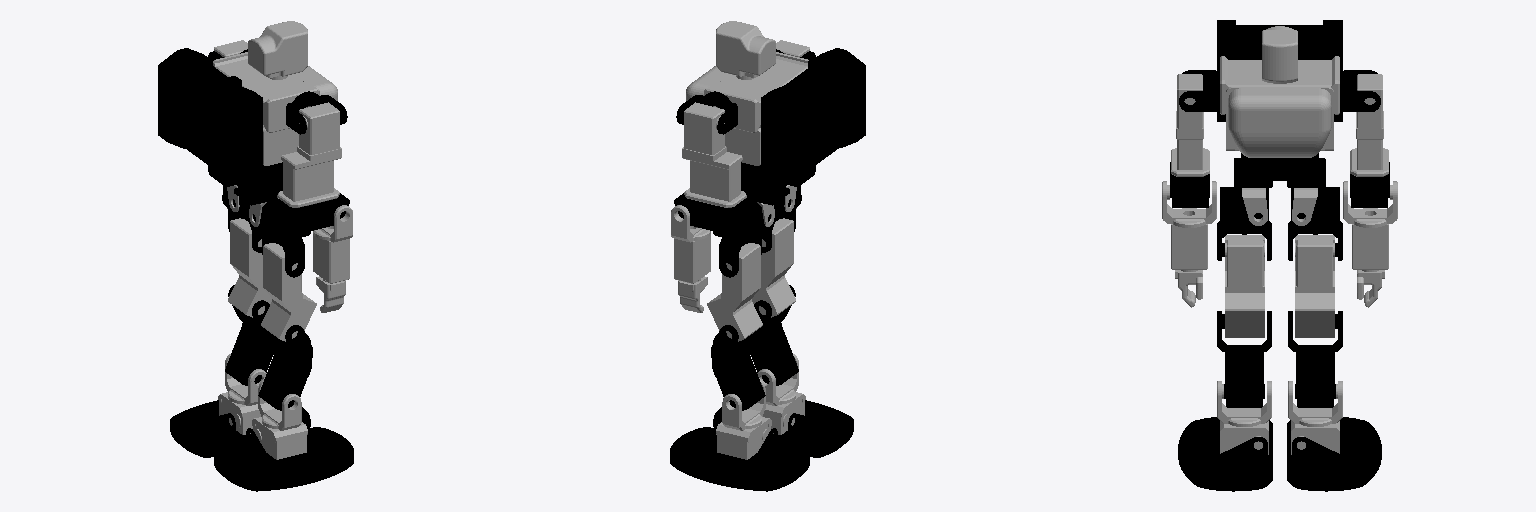
--- Render facts (derived) ---
3 views of the same robot in one strip: view 1: azimuth 30°, elevation 25°; view 2: azimuth 150°, elevation 25°; view 3: azimuth 270°, elevation 25° (orthographic).
Model khr3_001 with 26 links and 25 joints (22 continuous, 2 fixed, 1 floating), rooted at base_footprint, posed every joint at zero.
Visible links, largest first — view 1: c_chest_b, r_foot, r_upperarm, r_upperreg, r_lowerarm, l_foot, r_lowerreg, c_head_a, c_chest_c, r_ankle, l_upperreg, l_lowerreg (+7 smaller); view 2: c_chest_b, l_foot, l_upperarm, l_upperreg, l_lowerarm, r_foot, l_lowerreg, c_chest_c, c_head_a, l_ankle, r_upperreg, r_lowerreg (+7 smaller); view 3: c_chest_a, l_foot, r_foot, l_upperreg, r_upperreg, c_chest_b, l_lowerarm, r_lowerarm, l_lowerreg, r_lowerreg, c_chest_c, base_link (+13 smaller).
Boxes of the visible links, x1,y1,x2,y2 form: c_chest_b: (158,48,262,184); r_foot: (214,427,353,491); r_upperarm: (277,102,341,207); r_upperreg: (261,243,316,341); r_lowerarm: (313,205,352,312); l_foot: (170,400,310,457); r_lowerreg: (258,310,312,410); c_head_a: (248,21,307,79); c_chest_c: (213,52,319,132); r_ankle: (252,378,307,459); l_upperreg: (228,218,271,317); l_lowerreg: (225,285,275,385); c_chest_b: (761,48,865,184); l_foot: (670,427,809,491); l_upperarm: (682,102,746,207); l_upperreg: (707,243,762,341); l_lowerarm: (671,205,710,312); r_foot: (713,400,853,457); l_lowerreg: (711,310,765,410); c_chest_c: (704,52,808,132); c_head_a: (716,21,775,79); l_ankle: (716,378,771,459); r_upperreg: (752,218,795,317); r_lowerreg: (748,285,798,385); c_chest_a: (1226,87,1333,157); l_foot: (1287,417,1381,491); r_foot: (1178,417,1272,491); l_upperreg: (1295,235,1334,337); r_upperreg: (1225,235,1264,337); c_chest_b: (1217,20,1342,121); l_lowerarm: (1343,181,1397,307); r_lowerarm: (1162,181,1216,307); l_lowerreg: (1288,311,1342,407); r_lowerreg: (1217,311,1271,407); c_chest_c: (1220,56,1339,150); base_link: (1234,153,1325,187).
Bounding box of the posed robot: 0.1356 × 0.1943 × 0.3987 m (x, y, z).
25 mesh visuals loaded from 25 distinct referenced files (25 binary STL).

URDF robot description (khr3_001):
<?xml version="1.0" ?>
<!-- =================================================================================== -->
<!-- |    This document was autogenerated by xacro from khr3_001.xacro                 | -->
<!-- |    EDITING THIS FILE BY HAND IS NOT RECOMMENDED                                 | -->
<!-- =================================================================================== -->
<robot name="khr3_001">
  <material name="silver">
    <color rgba="0.700 0.700 0.700 1.000"/>
  </material>
  <material name="white">
    <color rgba="1.0 1.0 1.0 1.0"/>
  </material>
  <material name="black">
    <color rgba="0.0 0.0 0.0 1.0"/>
  </material>
  <transmission name="c_chest_yaw_tran" type="SimpleTransmission">
    <type>transmission_interface/SimpleTransmission</type>
    <joint name="c_chest_yaw">
      <hardwareInterface>hardware_interface/PositionJointInterface</hardwareInterface>
    </joint>
    <actuator name="c_chest_yaw_actr">
      <hardwareInterface>hardware_interface/PositionJointInterface</hardwareInterface>
      <mechanicalReduction>1</mechanicalReduction>
    </actuator>
  </transmission>
  <transmission name="c_head_yaw_tran" type="SimpleTransmission">
    <type>transmission_interface/SimpleTransmission</type>
    <joint name="c_head_yaw">
      <hardwareInterface>hardware_interface/PositionJointInterface</hardwareInterface>
    </joint>
    <actuator name="c_head_yaw_actr">
      <hardwareInterface>hardware_interface/PositionJointInterface</hardwareInterface>
      <mechanicalReduction>1</mechanicalReduction>
    </actuator>
  </transmission>
  <transmission name="l_shoulder_pitch_tran" type="SimpleTransmission">
    <type>transmission_interface/SimpleTransmission</type>
    <joint name="l_shoulder_pitch">
      <hardwareInterface>hardware_interface/PositionJointInterface</hardwareInterface>
    </joint>
    <actuator name="l_shoulder_pitch_actr">
      <hardwareInterface>hardware_interface/PositionJointInterface</hardwareInterface>
      <mechanicalReduction>1</mechanicalReduction>
    </actuator>
  </transmission>
  <transmission name="l_shoulder_roll_tran" type="SimpleTransmission">
    <type>transmission_interface/SimpleTransmission</type>
    <joint name="l_shoulder_roll">
      <hardwareInterface>hardware_interface/PositionJointInterface</hardwareInterface>
    </joint>
    <actuator name="l_shoulder_roll_actr">
      <hardwareInterface>hardware_interface/PositionJointInterface</hardwareInterface>
      <mechanicalReduction>1</mechanicalReduction>
    </actuator>
  </transmission>
  <transmission name="l_elbow_yaw_tran" type="SimpleTransmission">
    <type>transmission_interface/SimpleTransmission</type>
    <joint name="l_elbow_yaw">
      <hardwareInterface>hardware_interface/PositionJointInterface</hardwareInterface>
    </joint>
    <actuator name="l_elbow_yaw_actr">
      <hardwareInterface>hardware_interface/PositionJointInterface</hardwareInterface>
      <mechanicalReduction>1</mechanicalReduction>
    </actuator>
  </transmission>
  <transmission name="l_elbow_pitch_tran" type="SimpleTransmission">
    <type>transmission_interface/SimpleTransmission</type>
    <joint name="l_elbow_pitch">
      <hardwareInterface>hardware_interface/PositionJointInterface</hardwareInterface>
    </joint>
    <actuator name="l_elbow_pitch_actr">
      <hardwareInterface>hardware_interface/PositionJointInterface</hardwareInterface>
      <mechanicalReduction>1</mechanicalReduction>
    </actuator>
  </transmission>
  <transmission name="r_shoulder_pitch_tran" type="SimpleTransmission">
    <type>transmission_interface/SimpleTransmission</type>
    <joint name="r_shoulder_pitch">
      <hardwareInterface>hardware_interface/PositionJointInterface</hardwareInterface>
    </joint>
    <actuator name="r_shoulder_pitch_actr">
      <hardwareInterface>hardware_interface/PositionJointInterface</hardwareInterface>
      <mechanicalReduction>1</mechanicalReduction>
    </actuator>
  </transmission>
  <transmission name="r_shoulder_roll_tran" type="SimpleTransmission">
    <type>transmission_interface/SimpleTransmission</type>
    <joint name="r_shoulder_roll">
      <hardwareInterface>hardware_interface/PositionJointInterface</hardwareInterface>
    </joint>
    <actuator name="r_shoulder_roll_actr">
      <hardwareInterface>hardware_interface/PositionJointInterface</hardwareInterface>
      <mechanicalReduction>1</mechanicalReduction>
    </actuator>
  </transmission>
  <transmission name="r_elbow_yaw_tran" type="SimpleTransmission">
    <type>transmission_interface/SimpleTransmission</type>
    <joint name="r_elbow_yaw">
      <hardwareInterface>hardware_interface/PositionJointInterface</hardwareInterface>
    </joint>
    <actuator name="r_elbow_yaw_actr">
      <hardwareInterface>hardware_interface/PositionJointInterface</hardwareInterface>
      <mechanicalReduction>1</mechanicalReduction>
    </actuator>
  </transmission>
  <transmission name="r_elbow_pitch_tran" type="SimpleTransmission">
    <type>transmission_interface/SimpleTransmission</type>
    <joint name="r_elbow_pitch">
      <hardwareInterface>hardware_interface/PositionJointInterface</hardwareInterface>
    </joint>
    <actuator name="r_elbow_pitch_actr">
      <hardwareInterface>hardware_interface/PositionJointInterface</hardwareInterface>
      <mechanicalReduction>1</mechanicalReduction>
    </actuator>
  </transmission>
  <transmission name="l_hipjoint_yaw_tran" type="SimpleTransmission">
    <type>transmission_interface/SimpleTransmission</type>
    <joint name="l_hipjoint_yaw">
      <hardwareInterface>hardware_interface/PositionJointInterface</hardwareInterface>
    </joint>
    <actuator name="l_hipjoint_yaw_actr">
      <hardwareInterface>hardware_interface/PositionJointInterface</hardwareInterface>
      <mechanicalReduction>1</mechanicalReduction>
    </actuator>
  </transmission>
  <transmission name="l_hipjoint_roll_tran" type="SimpleTransmission">
    <type>transmission_interface/SimpleTransmission</type>
    <joint name="l_hipjoint_roll">
      <hardwareInterface>hardware_interface/PositionJointInterface</hardwareInterface>
    </joint>
    <actuator name="l_hipjoint_roll_actr">
      <hardwareInterface>hardware_interface/PositionJointInterface</hardwareInterface>
      <mechanicalReduction>1</mechanicalReduction>
    </actuator>
  </transmission>
  <transmission name="l_hipjoint_pitch_tran" type="SimpleTransmission">
    <type>transmission_interface/SimpleTransmission</type>
    <joint name="l_hipjoint_pitch">
      <hardwareInterface>hardware_interface/PositionJointInterface</hardwareInterface>
    </joint>
    <actuator name="l_hipjoint_pitch_actr">
      <hardwareInterface>hardware_interface/PositionJointInterface</hardwareInterface>
      <mechanicalReduction>1</mechanicalReduction>
    </actuator>
  </transmission>
  <transmission name="l_knee_pitch_tran" type="SimpleTransmission">
    <type>transmission_interface/SimpleTransmission</type>
    <joint name="l_knee_pitch">
      <hardwareInterface>hardware_interface/PositionJointInterface</hardwareInterface>
    </joint>
    <actuator name="l_knee_pitch_actr">
      <hardwareInterface>hardware_interface/PositionJointInterface</hardwareInterface>
      <mechanicalReduction>1</mechanicalReduction>
    </actuator>
  </transmission>
  <transmission name="l_ankle_pitch_tran" type="SimpleTransmission">
    <type>transmission_interface/SimpleTransmission</type>
    <joint name="l_ankle_pitch">
      <hardwareInterface>hardware_interface/PositionJointInterface</hardwareInterface>
    </joint>
    <actuator name="l_ankle_pitch_actr">
      <hardwareInterface>hardware_interface/PositionJointInterface</hardwareInterface>
      <mechanicalReduction>1</mechanicalReduction>
    </actuator>
  </transmission>
  <transmission name="l_ankle_roll_tran" type="SimpleTransmission">
    <type>transmission_interface/SimpleTransmission</type>
    <joint name="l_ankle_roll">
      <hardwareInterface>hardware_interface/PositionJointInterface</hardwareInterface>
    </joint>
    <actuator name="l_ankle_roll_actr">
      <hardwareInterface>hardware_interface/PositionJointInterface</hardwareInterface>
      <mechanicalReduction>1</mechanicalReduction>
    </actuator>
  </transmission>
  <transmission name="r_hipjoint_yaw_tran" type="SimpleTransmission">
    <type>transmission_interface/SimpleTransmission</type>
    <joint name="r_hipjoint_yaw">
      <hardwareInterface>hardware_interface/PositionJointInterface</hardwareInterface>
    </joint>
    <actuator name="r_hipjoint_yaw_actr">
      <hardwareInterface>hardware_interface/PositionJointInterface</hardwareInterface>
      <mechanicalReduction>1</mechanicalReduction>
    </actuator>
  </transmission>
  <transmission name="r_hipjoint_roll_tran" type="SimpleTransmission">
    <type>transmission_interface/SimpleTransmission</type>
    <joint name="r_hipjoint_roll">
      <hardwareInterface>hardware_interface/PositionJointInterface</hardwareInterface>
    </joint>
    <actuator name="r_hipjoint_roll_actr">
      <hardwareInterface>hardware_interface/PositionJointInterface</hardwareInterface>
      <mechanicalReduction>1</mechanicalReduction>
    </actuator>
  </transmission>
  <transmission name="r_hipjoint_pitch_tran" type="SimpleTransmission">
    <type>transmission_interface/SimpleTransmission</type>
    <joint name="r_hipjoint_pitch">
      <hardwareInterface>hardware_interface/PositionJointInterface</hardwareInterface>
    </joint>
    <actuator name="r_hipjoint_pitch_actr">
      <hardwareInterface>hardware_interface/PositionJointInterface</hardwareInterface>
      <mechanicalReduction>1</mechanicalReduction>
    </actuator>
  </transmission>
  <transmission name="r_knee_pitch_tran" type="SimpleTransmission">
    <type>transmission_interface/SimpleTransmission</type>
    <joint name="r_knee_pitch">
      <hardwareInterface>hardware_interface/PositionJointInterface</hardwareInterface>
    </joint>
    <actuator name="r_knee_pitch_actr">
      <hardwareInterface>hardware_interface/PositionJointInterface</hardwareInterface>
      <mechanicalReduction>1</mechanicalReduction>
    </actuator>
  </transmission>
  <transmission name="r_ankle_pitch_tran" type="SimpleTransmission">
    <type>transmission_interface/SimpleTransmission</type>
    <joint name="r_ankle_pitch">
      <hardwareInterface>hardware_interface/PositionJointInterface</hardwareInterface>
    </joint>
    <actuator name="r_ankle_pitch_actr">
      <hardwareInterface>hardware_interface/PositionJointInterface</hardwareInterface>
      <mechanicalReduction>1</mechanicalReduction>
    </actuator>
  </transmission>
  <transmission name="r_ankle_roll_tran" type="SimpleTransmission">
    <type>transmission_interface/SimpleTransmission</type>
    <joint name="r_ankle_roll">
      <hardwareInterface>hardware_interface/PositionJointInterface</hardwareInterface>
    </joint>
    <actuator name="r_ankle_roll_actr">
      <hardwareInterface>hardware_interface/PositionJointInterface</hardwareInterface>
      <mechanicalReduction>1</mechanicalReduction>
    </actuator>
  </transmission>
  <!-- <gazebo>
  <plugin name="control" filename="libgazebo_ros_control.so"/>
</gazebo> -->
  <gazebo>
    <!-- Do I have to write it down? -->
    <plugin filename="libgazebo_ros_control.so" name="gazebo_ros_control">
      <robotNamespace>/khr3_001</robotNamespace>
      <robotSimType>gazebo_ros_control/DefaultRobotHWSim</robotSimType>
    </plugin>
  </gazebo>
  <gazebo reference="base_link">
    <material>Gazebo/Silver</material>
    <mu1>0.2</mu1>
    <mu2>0.2</mu2>
    <selfCollide>true</selfCollide>
    <gravity>true</gravity>
  </gazebo>
  <gazebo reference="c_chest_c">
    <material>Gazebo/Silver</material>
    <mu1>0.2</mu1>
    <mu2>0.2</mu2>
    <selfCollide>true</selfCollide>
  </gazebo>
  <gazebo reference="c_chest_b">
    <material>Gazebo/Silver</material>
    <mu1>0.2</mu1>
    <mu2>0.2</mu2>
    <selfCollide>true</selfCollide>
  </gazebo>
  <gazebo reference="c_chest_a">
    <material>Gazebo/Silver</material>
    <mu1>0.2</mu1>
    <mu2>0.2</mu2>
    <selfCollide>true</selfCollide>
  </gazebo>
  <gazebo reference="c_head_a">
    <material>Gazebo/Silver</material>
    <mu1>0.2</mu1>
    <mu2>0.2</mu2>
    <selfCollide>true</selfCollide>
  </gazebo>
  <gazebo reference="l_shoulder">
    <material>Gazebo/Silver</material>
    <mu1>0.2</mu1>
    <mu2>0.2</mu2>
    <selfCollide>true</selfCollide>
  </gazebo>
  <gazebo reference="l_upperarm">
    <material>Gazebo/Silver</material>
    <mu1>0.2</mu1>
    <mu2>0.2</mu2>
    <selfCollide>true</selfCollide>
  </gazebo>
  <gazebo reference="l_elbow">
    <material>Gazebo/Silver</material>
    <mu1>0.2</mu1>
    <mu2>0.2</mu2>
    <selfCollide>true</selfCollide>
  </gazebo>
  <gazebo reference="l_lowerarm">
    <material>Gazebo/Silver</material>
    <mu1>0.2</mu1>
    <mu2>0.2</mu2>
    <selfCollide>true</selfCollide>
  </gazebo>
  <gazebo reference="r_shoulder">
    <material>Gazebo/Silver</material>
    <mu1>0.2</mu1>
    <mu2>0.2</mu2>
    <selfCollide>true</selfCollide>
  </gazebo>
  <gazebo reference="r_upperarm">
    <material>Gazebo/Silver</material>
    <mu1>0.2</mu1>
    <mu2>0.2</mu2>
    <selfCollide>true</selfCollide>
  </gazebo>
  <gazebo reference="r_elbow">
    <material>Gazebo/Silver</material>
    <mu1>0.2</mu1>
    <mu2>0.2</mu2>
    <selfCollide>true</selfCollide>
  </gazebo>
  <gazebo reference="r_lowerarm">
    <material>Gazebo/Silver</material>
    <mu1>0.2</mu1>
    <mu2>0.2</mu2>
    <selfCollide>true</selfCollide>
  </gazebo>
  <gazebo reference="l_hipjointupper">
    <material>Gazebo/Silver</material>
    <mu1>0.2</mu1>
    <mu2>0.2</mu2>
    <selfCollide>true</selfCollide>
  </gazebo>
  <gazebo reference="l_hipjointlower">
    <material>Gazebo/Silver</material>
    <mu1>0.2</mu1>
    <mu2>0.2</mu2>
    <selfCollide>true</selfCollide>
  </gazebo>
  <gazebo reference="l_upperreg">
    <material>Gazebo/Silver</material>
    <mu1>0.2</mu1>
    <mu2>0.2</mu2>
    <selfCollide>true</selfCollide>
  </gazebo>
  <gazebo reference="l_lowerreg">
    <material>Gazebo/Silver</material>
    <mu1>0.2</mu1>
    <mu2>0.2</mu2>
    <selfCollide>true</selfCollide>
  </gazebo>
  <gazebo reference="l_ankle">
    <material>Gazebo/Silver</material>
    <mu1>0.2</mu1>
    <mu2>0.2</mu2>
    <selfCollide>true</selfCollide>
  </gazebo>
  <gazebo reference="l_foot">
    <material>Gazebo/Silver</material>
    <mu1>1</mu1>
    <mu2>1</mu2>
    <selfCollide>true</selfCollide>
  </gazebo>
  <gazebo reference="r_hipjointupper">
    <material>Gazebo/Silver</material>
    <mu1>0.2</mu1>
    <mu2>0.2</mu2>
    <selfCollide>true</selfCollide>
  </gazebo>
  <gazebo reference="r_hipjointlower">
    <material>Gazebo/Silver</material>
    <mu1>0.2</mu1>
    <mu2>0.2</mu2>
    <selfCollide>true</selfCollide>
  </gazebo>
  <gazebo reference="r_upperreg">
    <material>Gazebo/Silver</material>
    <mu1>0.2</mu1>
    <mu2>0.2</mu2>
    <selfCollide>true</selfCollide>
  </gazebo>
  <gazebo reference="r_lowerreg">
    <material>Gazebo/Silver</material>
    <mu1>0.2</mu1>
    <mu2>0.2</mu2>
    <selfCollide>true</selfCollide>
  </gazebo>
  <gazebo reference="r_ankle">
    <material>Gazebo/Silver</material>
    <mu1>0.2</mu1>
    <mu2>0.2</mu2>
    <selfCollide>true</selfCollide>
  </gazebo>
  <gazebo reference="r_foot">
    <material>Gazebo/Silver</material>
    <mu1>1</mu1>
    <mu2>1</mu2>
    <selfCollide>true</selfCollide>
  </gazebo>
  <!-- Description of robot -->
  <link name="base_footprint"/>
  <link name="base_link">
    <inertial>
      <origin rpy="0 0 0" xyz="-0.0004860989233068058 0.009532810756286874 0.27413898086600197"/>
      <mass value="0.13408213174666955"/>
      <inertia ixx="6.3e-05" ixy="0.0" ixz="-0.0" iyy="3.6e-05" iyz="-0.0" izz="6.8e-05"/>
    </inertial>
    <visual>
      <origin rpy="0 0 0" xyz="0 0 0"/>
      <geometry>
        <mesh filename="package://choreonoid_ros_khr3/meshes/base_link.stl" scale="0.001 0.001 0.001"/>
      </geometry>
      <material name="black"/>
    </visual>
    <collision>
      <origin rpy="0 0 0" xyz="0 0 0"/>
      <geometry>
        <mesh filename="package://choreonoid_ros_khr3/meshes/base_link.stl" scale="0.001 0.001 0.001"/>
      </geometry>
    </collision>
  </link>
  <link name="c_chest_c">
    <inertial>
      <origin rpy="0 0 0" xyz="-9.07564737343998e-05 -4.299695898109246e-08 0.04371354326547944"/>
      <mass value="0.1751250442918052"/>
      <inertia ixx="0.000158" ixy="0.0" ixz="0.0" iyy="6.6e-05" iyz="-0.0" izz="0.000176"/>
    </inertial>
    <visual>
      <origin rpy="0 0 0" xyz="-0.010956 -0.009542 -0.29475"/>
      <geometry>
        <mesh filename="package://choreonoid_ros_khr3/meshes/c_chest_c_1.stl" scale="0.001 0.001 0.001"/>
      </geometry>
      <material name="silver"/>
    </visual>
    <collision>
      <origin rpy="0 0 0" xyz="-0.010956 -0.009542 -0.29475"/>
      <geometry>
        <mesh filename="package://choreonoid_ros_khr3/meshes/c_chest_c_1.stl" scale="0.001 0.001 0.001"/>
      </geometry>
    </collision>
  </link>
  <link name="c_chest_b">
    <inertial>
      <origin rpy="0 0 0" xyz="-0.027362562372520854 2.840518613928325e-06 0.004477857770456339"/>
      <mass value="0.08659748664099903"/>
      <inertia ixx="0.000118" ixy="0.0" ixz="0.0" iyy="5.2e-05" iyz="0.0" izz="9.8e-05"/>
    </inertial>
    <visual>
      <origin rpy="0 0 0" xyz="0.015044 -0.009542 -0.326"/>
      <geometry>
        <mesh filename="package://choreonoid_ros_khr3/meshes/c_chest_b_1.stl" scale="0.001 0.001 0.001"/>
      </geometry>
      <material name="black"/>
    </visual>
    <collision>
      <origin rpy="0 0 0" xyz="0.015044 -0.009542 -0.326"/>
      <geometry>
        <mesh filename="package://choreonoid_ros_khr3/meshes/c_chest_b_1.stl" scale="0.001 0.001 0.001"/>
      </geometry>
    </collision>
  </link>
  <link name="c_chest_a">
    <inertial>
      <origin rpy="0 0 0" xyz="0.004546800382866728 -4.1161282904669805e-08 -0.0024788373011201403"/>
      <mass value="0.033763915303500654"/>
      <inertia ixx="3.4e-05" ixy="-0.0" ixz="-3e-06" iyy="1.9e-05" iyz="0.0" izz="3.6e-05"/>
    </inertial>
    <visual>
      <origin rpy="0 0 0" xyz="-0.036956 -0.009542 -0.326"/>
      <geometry>
        <mesh filename="package://choreonoid_ros_khr3/meshes/c_chest_a_1.stl" scale="0.001 0.001 0.001"/>
      </geometry>
      <material name="silver"/>
    </visual>
    <collision>
      <origin rpy="0 0 0" xyz="-0.036956 -0.009542 -0.326"/>
      <geometry>
        <mesh filename="package://choreonoid_ros_khr3/meshes/c_chest_a_1.stl" scale="0.001 0.001 0.001"/>
      </geometry>
    </collision>
  </link>
  <link name="c_head_a">
    <inertial>
      <origin rpy="0 0 0" xyz="0.003079433021973575 -4.3073247395913894e-08 0.022888877386975093"/>
      <mass value="0.012778861662402228"/>
      <inertia ixx="2e-06" ixy="-0.0" ixz="-0.0" iyy="4e-06" iyz="0.0" izz="3e-06"/>
    </inertial>
    <visual>
      <origin rpy="0 0 0" xyz="-0.022456 -0.009542 -0.35425"/>
      <geometry>
        <mesh filename="package://choreonoid_ros_khr3/meshes/c_head_a_1.stl" scale="0.001 0.001 0.001"/>
      </geometry>
      <material name="silver"/>
    </visual>
    <collision>
      <origin rpy="0 0 0" xyz="-0.022456 -0.009542 -0.35425"/>
      <geometry>
        <mesh filename="package://choreonoid_ros_khr3/meshes/c_head_a_1.stl" scale="0.001 0.001 0.001"/>
      </geometry>
    </collision>
  </link>
  <link name="l_shoulder">
    <inertial>
      <origin rpy="0 0 0" xyz="0.00016940373751364937 0.008747288709026461 3.2529534621517087e-14"/>
      <mass value="0.012120367829212707"/>
      <inertia ixx="1e-06" ixy="-0.0" ixz="0.0" iyy="4e-06" iyz="0.0" izz="4e-06"/>
    </inertial>
    <visual>
      <origin rpy="0 0 0" xyz="-0.022456 -0.058442 -0.3425"/>
      <geometry>
        <mesh filename="package://choreonoid_ros_khr3/meshes/l_shoulder_v5_1.stl" scale="0.001 0.001 0.001"/>
      </geometry>
      <material name="black"/>
    </visual>
    <collision>
      <origin rpy="0 0 0" xyz="-0.022456 -0.058442 -0.3425"/>
      <geometry>
        <mesh filename="package://choreonoid_ros_khr3/meshes/l_shoulder_v5_1.stl" scale="0.001 0.001 0.001"/>
      </geometry>
    </collision>
  </link>
  <link name="l_upperarm">
    <inertial>
      <origin rpy="0 0 0" xyz="-0.02256531849252991 -4.2996961130414846e-08 -0.03564584515249991"/>
      <mass value="0.09077338253436838"/>
      <inertia ixx="5.4e-05" ixy="0.0" ixz="-1e-05" iyy="6.4e-05" iyz="0.0" izz="1.8e-05"/>
    </inertial>
    <visual>
      <origin rpy="0 0 0" xyz="-0.038206 -0.083442 -0.3425"/>
      <geometry>
        <mesh filename="package://choreonoid_ros_khr3/meshes/l_upperarm_v4_1.stl" scale="0.001 0.001 0.001"/>
      </geometry>
      <material name="silver"/>
    </visual>
    <collision>
      <origin rpy="0 0 0" xyz="-0.038206 -0.083442 -0.3425"/>
      <geometry>
        <mesh filename="package://choreonoid_ros_khr3/meshes/l_upperarm_v4_1.stl" scale="0.001 0.001 0.001"/>
      </geometry>
    </collision>
  </link>
  <link name="l_elbow">
    <inertial>
      <origin rpy="0 0 0" xyz="5.745484729775818e-05 -4.299695875731313e-08 -0.012574921301198305"/>
      <mass value="0.044771268874731644"/>
      <inertia ixx="6e-06" ixy="0.0" ixz="0.0" iyy="8e-06" iyz="-0.0" izz="1e-05"/>
    </inertial>
    <visual>
      <origin rpy="0 0 0" xyz="-0.022206 -0.083442 -0.27075"/>
      <geometry>
        <mesh filename="package://choreonoid_ros_khr3/meshes/l_elbow_v4_1.stl" scale="0.001 0.001 0.001"/>
      </geometry>
      <material name="black"/>
    </visual>
    <collision>
      <origin rpy="0 0 0" xyz="-0.022206 -0.083442 -0.27075"/>
      <geometry>
        <mesh filename="package://choreonoid_ros_khr3/meshes/l_elbow_v4_1.stl" scale="0.001 0.001 0.001"/>
      </geometry>
    </collision>
  </link>
  <link name="l_lowerarm">
    <inertial>
      <origin rpy="0 0 0" xyz="0.00017641899363149416 -0.0156924274010031 -0.04569649848488025"/>
      <mass value="0.02983803452815617"/>
      <inertia ixx="1.8e-05" ixy="0.0" ixz="0.0" iyy="1.6e-05" iyz="-0.0" izz="4e-06"/>
    </inertial>
    <visual>
      <origin rpy="0 0 0" xyz="-0.033706 -0.099692 -0.25625"/>
      <geometry>
        <mesh filename="package://choreonoid_ros_khr3/meshes/l_lowerarm_v7_1.stl" scale="0.001 0.001 0.001"/>
      </geometry>
      <material name="silver"/>
    </visual>
    <collision>
      <origin rpy="0 0 0" xyz="-0.033706 -0.099692 -0.25625"/>
      <geometry>
        <mesh filename="package://choreonoid_ros_khr3/meshes/l_lowerarm_v7_1.stl" scale="0.001 0.001 0.001"/>
      </geometry>
    </collision>
  </link>
  <link name="r_shoulder">
    <inertial>
      <origin rpy="0 0 0" xyz="0.00016940373733528857 -0.008747374702943796 5.306866057708248e-14"/>
      <mass value="0.01212036782921271"/>
      <inertia ixx="1e-06" ixy="0.0" ixz="-0.0" iyy="4e-06" iyz="0.0" izz="4e-06"/>
    </inertial>
    <visual>
      <origin rpy="0 0 0" xyz="-0.022456 0.039358 -0.3425"/>
      <geometry>
        <mesh filename="package://choreonoid_ros_khr3/meshes/r_shoulder_v4_1.stl" scale="0.001 0.001 0.001"/>
      </geometry>
      <material name="black"/>
    </visual>
    <collision>
      <origin rpy="0 0 0" xyz="-0.022456 0.039358 -0.3425"/>
      <geometry>
        <mesh filename="package://choreonoid_ros_khr3/meshes/r_shoulder_v4_1.stl" scale="0.001 0.001 0.001"/>
      </geometry>
    </collision>
  </link>
  <link name="r_upperarm">
    <inertial>
      <origin rpy="0 0 0" xyz="-0.022565318492529688 -4.2996961074903695e-08 -0.03564584515249991"/>
      <mass value="0.09077338253436838"/>
      <inertia ixx="5.4e-05" ixy="0.0" ixz="-1e-05" iyy="6.4e-05" iyz="0.0" izz="1.8e-05"/>
    </inertial>
    <visual>
      <origin rpy="0 0 0" xyz="-0.038206 0.064358 -0.3425"/>
      <geometry>
        <mesh filename="package://choreonoid_ros_khr3/meshes/r_upperarm_v3_1.stl" scale="0.001 0.001 0.001"/>
      </geometry>
      <material name="silver"/>
    </visual>
    <collision>
      <origin rpy="0 0 0" xyz="-0.038206 0.064358 -0.3425"/>
      <geometry>
        <mesh filename="package://choreonoid_ros_khr3/meshes/r_upperarm_v3_1.stl" scale="0.001 0.001 0.001"/>
      </geometry>
    </collision>
  </link>
  <link name="r_elbow">
    <inertial>
      <origin rpy="0 0 0" xyz="5.7454847330103836e-05 -4.2996958674046404e-08 -0.012574921301198305"/>
      <mass value="0.044771268874731526"/>
      <inertia ixx="6e-06" ixy="0.0" ixz="0.0" iyy="8e-06" iyz="-0.0" izz="1e-05"/>
    </inertial>
    <visual>
      <origin rpy="0 0 0" xyz="-0.022206 0.064358 -0.27075"/>
      <geometry>
        <mesh filename="package://choreonoid_ros_khr3/meshes/r_elbow_v4_1.stl" scale="0.001 0.001 0.001"/>
      </geometry>
      <material name="black"/>
    </visual>
    <collision>
      <origin rpy="0 0 0" xyz="-0.022206 0.064358 -0.27075"/>
      <geometry>
        <mesh filename="package://choreonoid_ros_khr3/meshes/r_elbow_v4_1.stl" scale="0.001 0.001 0.001"/>
      </geometry>
    </collision>
  </link>
  <link name="r_lowerarm">
    <inertial>
      <origin rpy="0 0 0" xyz="0.00017641899364317232 0.01569234140705124 -0.04569649848495705"/>
      <mass value="0.029838034528201704"/>
      <inertia ixx="1.8e-05" ixy="-0.0" ixz="0.0" iyy="1.6e-05" iyz="0.0" izz="4e-06"/>
    </inertial>
    <visual>
      <origin rpy="0 0 0" xyz="-0.033706 0.080608 -0.25625"/>
      <geometry>
        <mesh filename="package://choreonoid_ros_khr3/meshes/r_lowerarm_v5_1.stl" scale="0.001 0.001 0.001"/>
      </geometry>
      <material name="silver"/>
    </visual>
    <collision>
      <origin rpy="0 0 0" xyz="-0.033706 0.080608 -0.25625"/>
      <geometry>
        <mesh filename="package://choreonoid_ros_khr3/meshes/r_lowerarm_v5_1.stl" scale="0.001 0.001 0.001"/>
      </geometry>
    </collision>
  </link>
  <link name="l_hipjointupper">
    <inertial>
      <origin rpy="0 0 0" xyz="3.293764515496962e-05 -0.0011113374509284651 -0.007400199793976242"/>
      <mass value="0.005702042499396512"/>
      <inertia ixx="1e-06" ixy="0.0" ixz="0.0" iyy="2e-06" iyz="-0.0" izz="2e-06"/>
    </inertial>
    <visual>
      <origin rpy="0 0 0" xyz="-0.010956 -0.031242 -0.25575"/>
      <geometry>
        <mesh filename="package://choreonoid_ros_khr3/meshes/l_hipjointupper_v4_1.stl" scale="0.001 0.001 0.001"/>
      </geometry>
      <material name="silver"/>
    </visual>
    <collision>
      <origin rpy="0 0 0" xyz="-0.010956 -0.031242 -0.25575"/>
      <geometry>
        <mesh filename="package://choreonoid_ros_khr3/meshes/l_hipjointupper_v4_1.stl" scale="0.001 0.001 0.001"/>
      </geometry>
    </collision>
  </link>
  <link name="l_hipjointlower">
    <inertial>
      <origin rpy="0 0 0" xyz="-0.016250242301438553 0.011463181378816707 -0.0066539419866288585"/>
      <mass value="0.06689532645492419"/>
      <inertia ixx="2e-05" ixy="0.0" ixz="-0.0" iyy="1.4e-05" iyz="0.0" izz="1.5e-05"/>
    </inertial>
    <visual>
      <origin rpy="0 0 0" xyz="-0.027656 -0.027242 -0.233"/>
      <geometry>
        <mesh filename="package://choreonoid_ros_khr3/meshes/l_hipjointlower_v4_1.stl" scale="0.001 0.001 0.001"/>
      </geometry>
      <material name="black"/>
    </visual>
    <collision>
      <origin rpy="0 0 0" xyz="-0.027656 -0.027242 -0.233"/>
      <geometry>
        <mesh filename="package://choreonoid_ros_khr3/meshes/l_hipjointlower_v4_1.stl" scale="0.001 0.001 0.001"/>
      </geometry>
    </collision>
  </link>
  <link name="l_upperreg">
    <inertial>
      <origin rpy="0 0 0" xyz="0.002589780466551929 -0.016500042996958703 -0.03375567398425394"/>
      <mass value="0.09097466003274825"/>
      <inertia ixx="5.9e-05" ixy="0.0" ixz="4e-06" iyy="5.6e-05" iyz="0.0" izz="1.3e-05"/>
    </inertial>
    <visual>
      <origin rpy="0 0 0" xyz="-0.011406 -0.054742 -0.1935"/>
      <geometry>
        <mesh filename="package://choreonoid_ros_khr3/meshes/l_upperreg_v3_1.stl" scale="0.001 0.001 0.001"/>
      </geometry>
      <material name="silver"/>
    </visual>
    <collision>
      <origin rpy="0 0 0" xyz="-0.011406 -0.054742 -0.1935"/>
      <geometry>
        <mesh filename="package://choreonoid_ros_khr3/meshes/l_upperreg_v3_1.stl" scale="0.001 0.001 0.001"/>
      </geometry>
    </collision>
  </link>
  <link name="l_lowerreg">
    <inertial>
      <origin rpy="0 0 0" xyz="0.0044805681524230055 -0.015970110512676966 -0.04182100713444817"/>
      <mass value="0.06094435150357522"/>
      <inertia ixx="2.9e-05" ixy="0.0" ixz="-5e-06" iyy="2.6e-05" iyz="-0.0" izz="1.1e-05"/>
    </inertial>
    <visual>
      <origin rpy="0 0 0" xyz="-0.011406 -0.054742 -0.1285"/>
      <geometry>
        <mesh filename="package://choreonoid_ros_khr3/meshes/l_lowerreg_v5_1.stl" scale="0.001 0.001 0.001"/>
      </geometry>
      <material name="black"/>
    </visual>
    <collision>
      <origin rpy="0 0 0" xyz="-0.011406 -0.054742 -0.1285"/>
      <geometry>
        <mesh filename="package://choreonoid_ros_khr3/meshes/l_lowerreg_v5_1.stl" scale="0.001 0.001 0.001"/>
      </geometry>
    </collision>
  </link>
  <link name="l_ankle">
    <inertial>
      <origin rpy="0 0 0" xyz="0.0001886240331466279 -0.01666391069306302 -0.03292964719213733"/>
      <mass value="0.06757551562559608"/>
      <inertia ixx="2e-05" ixy="0.0" ixz="0.0" iyy="1.4e-05" iyz="-0.0" izz="1.6e-05"/>
    </inertial>
    <visual>
      <origin rpy="0 0 0" xyz="-0.008043 -0.055242 -0.063587"/>
      <geometry>
        <mesh filename="package://choreonoid_ros_khr3/meshes/l_ankle_v5_1.stl" scale="0.001 0.001 0.001"/>
      </geometry>
      <material name="silver"/>
    </visual>
    <collision>
      <origin rpy="0 0 0" xyz="-0.008043 -0.055242 -0.063587"/>
      <geometry>
        <mesh filename="package://choreonoid_ros_khr3/meshes/l_ankle_v5_1.stl" scale="0.001 0.001 0.001"/>
      </geometry>
    </collision>
  </link>
  <link name="l_foot">
    <inertial>
      <origin rpy="0 0 0" xyz="-0.020700151207673705 0.023895172544662873 -0.021244534057561063"/>
      <mass value="0.03847104970565043"/>
      <inertia ixx="2.3e-05" ixy="-0.0" ixz="0.0" iyy="4.8e-05" iyz="0.0" izz="6.9e-05"/>
    </inertial>
    <visual>
      <origin rpy="0 0 0" xyz="-0.027793 -0.027242 -0.024087"/>
      <geometry>
        <mesh filename="package://choreonoid_ros_khr3/meshes/l_foot_v3_1.stl" scale="0.001 0.001 0.001"/>
      </geometry>
      <material name="black"/>
    </visual>
    <collision>
      <origin rpy="0 0 0" xyz="-0.027793 -0.027242 -0.024087"/>
      <geometry>
        <mesh filename="package://choreonoid_ros_khr3/meshes/l_foot_v3_1.stl" scale="0.001 0.001 0.001"/>
      </geometry>
    </collision>
  </link>
  <link name="r_hipjointupper">
    <inertial>
      <origin rpy="0 0 0" xyz="3.2937645155054623e-05 0.0011112514569246185 -0.007400199793976325"/>
      <mass value="0.005702042499396526"/>
      <inertia ixx="1e-06" ixy="-0.0" ixz="0.0" iyy="2e-06" iyz="0.0" izz="2e-06"/>
    </inertial>
    <visual>
      <origin rpy="0 0 0" xyz="-0.010956 0.012158 -0.25575"/>
      <geometry>
        <mesh filename="package://choreonoid_ros_khr3/meshes/r_hipjointupper_v4_1.stl" scale="0.001 0.001 0.001"/>
      </geometry>
      <material name="silver"/>
    </visual>
    <collision>
      <origin rpy="0 0 0" xyz="-0.010956 0.012158 -0.25575"/>
      <geometry>
        <mesh filename="package://choreonoid_ros_khr3/meshes/r_hipjointupper_v4_1.stl" scale="0.001 0.001 0.001"/>
      </geometry>
    </collision>
  </link>
  <link name="r_hipjointlower">
    <inertial>
      <origin rpy="0 0 0" xyz="-0.016250242301436166 -0.011463267372574608 -0.006653941986625556"/>
      <mass value="0.0668953264549242"/>
      <inertia ixx="2e-05" ixy="0.0" ixz="0.0" iyy="1.4e-05" iyz="-0.0" izz="1.5e-05"/>
    </inertial>
    <visual>
      <origin rpy="0 0 0" xyz="-0.027656 0.008158 -0.233"/>
      <geometry>
        <mesh filename="package://choreonoid_ros_khr3/meshes/r_hipjointlower_v4_1.stl" scale="0.001 0.001 0.001"/>
      </geometry>
      <material name="black"/>
    </visual>
    <collision>
      <origin rpy="0 0 0" xyz="-0.027656 0.008158 -0.233"/>
      <geometry>
        <mesh filename="package://choreonoid_ros_khr3/meshes/r_hipjointlower_v4_1.stl" scale="0.001 0.001 0.001"/>
      </geometry>
    </collision>
  </link>
  <link name="r_upperreg">
    <inertial>
      <origin rpy="0 0 0" xyz="0.0025897804665520278 0.016499957003041386 -0.03375567398425397"/>
      <mass value="0.09097466003274823"/>
      <inertia ixx="5.9e-05" ixy="-0.0" ixz="4e-06" iyy="5.6e-05" iyz="0.0" izz="1.3e-05"/>
    </inertial>
    <visual>
      <origin rpy="0 0 0" xyz="-0.011406 0.035658 -0.1935"/>
      <geometry>
        <mesh filename="package://choreonoid_ros_khr3/meshes/r_upperreg_v3_1.stl" scale="0.001 0.001 0.001"/>
      </geometry>
      <material name="silver"/>
    </visual>
    <collision>
      <origin rpy="0 0 0" xyz="-0.011406 0.035658 -0.1935"/>
      <geometry>
        <mesh filename="package://choreonoid_ros_khr3/meshes/r_upperreg_v3_1.stl" scale="0.001 0.001 0.001"/>
      </geometry>
    </collision>
  </link>
  <link name="r_lowerreg">
    <inertial>
      <origin rpy="0 0 0" xyz="0.004480568152423165 0.01597002451875967 -0.04182100713444818"/>
      <mass value="0.06094435150357523"/>
      <inertia ixx="2.9e-05" ixy="-0.0" ixz="-5e-06" iyy="2.6e-05" iyz="0.0" izz="1.1e-05"/>
    </inertial>
    <visual>
      <origin rpy="0 0 0" xyz="-0.011406 0.035658 -0.1285"/>
      <geometry>
        <mesh filename="package://choreonoid_ros_khr3/meshes/r_lowerreg_v5_1.stl" scale="0.001 0.001 0.001"/>
      </geometry>
      <material name="black"/>
    </visual>
    <collision>
      <origin rpy="0 0 0" xyz="-0.011406 0.035658 -0.1285"/>
      <geometry>
        <mesh filename="package://choreonoid_ros_khr3/meshes/r_lowerreg_v5_1.stl" scale="0.001 0.001 0.001"/>
      </geometry>
    </collision>
  </link>
  <link name="r_ankle">
    <inertial>
      <origin rpy="0 0 0" xyz="0.00018862403314765484 0.01666382469921859 -0.03292964719213813"/>
      <mass value="0.06757551562559609"/>
      <inertia ixx="2e-05" ixy="-0.0" ixz="0.0" iyy="1.4e-05" iyz="0.0" izz="1.6e-05"/>
    </inertial>
    <visual>
      <origin rpy="0 0 0" xyz="-0.008043 0.036158 -0.063587"/>
      <geometry>
        <mesh filename="package://choreonoid_ros_khr3/meshes/r_ankle_v5_1.stl" scale="0.001 0.001 0.001"/>
      </geometry>
      <material name="silver"/>
    </visual>
    <collision>
      <origin rpy="0 0 0" xyz="-0.008043 0.036158 -0.063587"/>
      <geometry>
        <mesh filename="package://choreonoid_ros_khr3/meshes/r_ankle_v5_1.stl" scale="0.001 0.001 0.001"/>
      </geometry>
    </collision>
  </link>
  <link name="r_foot">
    <inertial>
      <origin rpy="0 0 0" xyz="-0.020700151207566492 -0.023895258538579878 -0.02124453405755709"/>
      <mass value="0.03847104970565037"/>
      <inertia ixx="2.3e-05" ixy="-0.0" ixz="-0.0" iyy="4.8e-05" iyz="-0.0" izz="6.9e-05"/>
    </inertial>
    <visual>
      <origin rpy="0 0 0" xyz="-0.027793 0.008158 -0.024087"/>
      <geometry>
        <mesh filename="package://choreonoid_ros_khr3/meshes/r_foot_v3_1.stl" scale="0.001 0.001 0.001"/>
      </geometry>
      <material name="black"/>
    </visual>
    <collision>
      <origin rpy="0 0 0" xyz="-0.027793 0.008158 -0.024087"/>
      <geometry>
        <mesh filename="package://choreonoid_ros_khr3/meshes/r_foot_v3_1.stl" scale="0.001 0.001 0.001"/>
      </geometry>
    </collision>
  </link>
  <!-- continuous <-> revolute -->
  <joint name="floating_joint" type="floating">
    <parent link="base_footprint"/>
    <child link="base_link"/>
    <origin rpy="0 0 0" xyz="0 0 0"/>
  </joint>
  <!-- <joint name="floating_joint" type="fixed">
        <parent link="base_footprint"/>
        <child link="base_link"/>
        <origin rpy="0 0 0" xyz="0 0 0"/>
</joint> -->
  <joint name="c_chest_yaw" type="continuous">
    <origin rpy="0 0 0" xyz="0.010956 0.009542 0.29475"/>
    <parent link="base_link"/>
    <child link="c_chest_c"/>
    <axis xyz="0.0 -0.0 1.0"/>
    <limit effort="1000" lower="-1.5707963267948966" upper="1.5707963267948966" velocity="100.0"/>
  </joint>
  <joint name="intrgration_01" type="fixed">
    <origin rpy="0 0 0" xyz="-0.026 0.0 0.03125"/>
    <parent link="c_chest_c"/>
    <child link="c_chest_b"/>
  </joint>
  <joint name="intrgration_02" type="fixed">
    <origin rpy="0 0 0" xyz="0.026 0.0 0.03125"/>
    <parent link="c_chest_c"/>
    <child link="c_chest_a"/>
  </joint>
  <joint name="l_shoulder_pitch" type="continuous">
    <origin rpy="0 0 0" xyz="0.0115 0.0489 0.04775"/>
    <parent link="c_chest_c"/>
    <child link="l_shoulder"/>
    <axis xyz="-0.0 1.0 0.0"/>
    <limit effort="1000" lower="-1.5707963267948966" upper="1.5707963267948966" velocity="100.0"/>
  </joint>
  <joint name="l_shoulder_roll" type="continuous">
    <origin rpy="0 0 0" xyz="0.01575 0.025 0.0"/>
    <parent link="l_shoulder"/>
    <child link="l_upperarm"/>
    <axis xyz="1.0 -0.0 0.0"/>
    <limit effort="1000" lower="-1.5707963267948966" upper="1.5707963267948966" velocity="100.0"/>
  </joint>
  <joint name="l_elbow_yaw" type="continuous">
    <origin rpy="0 0 0" xyz="-0.016 0.0 -0.07175"/>
    <parent link="l_upperarm"/>
    <child link="l_elbow"/>
    <axis xyz="-0.0 -0.0 1.0"/>
    <limit effort="1000" lower="-1.5707963267948966" upper="1.5707963267948966" velocity="100.0"/>
  </joint>
  <joint name="l_elbow_pitch" type="continuous">
    <origin rpy="0 0 0" xyz="0.0115 0.01625 -0.0145"/>
    <parent link="l_elbow"/>
    <child link="l_lowerarm"/>
    <axis xyz="-0.0 1.0 0.0"/>
    <limit effort="1000" lower="-1.5707963267948966" upper="1.5707963267948966" velocity="100.0"/>
  </joint>
  <joint name="l_hipjoint_yaw" type="continuous">
    <origin rpy="0 0 0" xyz="0.010956 0.031242 0.25575"/>
    <parent link="base_link"/>
    <child link="l_hipjointupper"/>
    <axis xyz="-0.0 0.0 -1.0"/>
    <limit effort="1000" lower="-1.5707963267948966" upper="1.5707963267948966" velocity="100.0"/>
  </joint>
  <joint name="l_hipjoint_roll" type="continuous">
    <origin rpy="0 0 0" xyz="0.0167 -0.004 -0.02275"/>
    <parent link="l_hipjointupper"/>
    <child link="l_hipjointlower"/>
    <axis xyz="1.0 0.0 -0.0"/>
    <limit effort="1000" lower="-1.5707963267948966" upper="1.5707963267948966" velocity="100.0"/>
  </joint>
  <joint name="l_hipjoint_pitch" type="continuous">
    <origin rpy="0 0 0" xyz="-0.01625 0.0275 -0.0395"/>
    <parent link="l_hipjointlower"/>
    <child link="l_upperreg"/>
    <axis xyz="-0.0 1.0 0.0"/>
    <limit effort="1000" lower="-1.5707963267948966" upper="1.5707963267948966" velocity="100.0"/>
  </joint>
  <joint name="l_knee_pitch" type="continuous">
    <origin rpy="0 0 0" xyz="0.0 0.0 -0.065"/>
    <parent link="l_upperreg"/>
    <child link="l_lowerreg"/>
    <axis xyz="-0.0 1.0 0.0"/>
    <limit effort="1000" lower="-1.5707963267948966" upper="1.5707963267948966" velocity="100.0"/>
  </joint>
  <joint name="l_ankle_pitch" type="continuous">
    <origin rpy="0 0 0" xyz="-0.003363 0.0005 -0.064913"/>
    <parent link="l_lowerreg"/>
    <child link="l_ankle"/>
    <axis xyz="0.0 1.0 0.0"/>
    <limit effort="1000" lower="-1.5707963267948966" upper="1.5707963267948966" velocity="100.0"/>
  </joint>
  <joint name="l_ankle_roll" type="continuous">
    <origin rpy="0 0 0" xyz="0.01975 -0.028 -0.0395"/>
    <parent link="l_ankle"/>
    <child link="l_foot"/>
    <axis xyz="1.0 -0.0 -0.0"/>
    <limit effort="1000" lower="-1.5707963267948966" upper="1.5707963267948966" velocity="100.0"/>
  </joint>
  <joint name="c_head_yaw" type="continuous">
    <origin rpy="0 0 0" xyz="0.0115 0.0 0.0595"/>
    <parent link="c_chest_c"/>
    <child link="c_head_a"/>
    <axis xyz="0.0 -0.0 1.0"/>
    <limit effort="1000" lower="-1.5707963267948966" upper="1.5707963267948966" velocity="100.0"/>
  </joint>
  <joint name="r_shoulder_pitch" type="continuous">
    <origin rpy="0 0 0" xyz="0.0115 -0.0489 0.04775"/>
    <parent link="c_chest_c"/>
    <child link="r_shoulder"/>
    <axis xyz="0.0 -1.0 -0.0"/>
    <limit effort="1000" lower="-1.5707963267948966" upper="1.5707963267948966" velocity="100.0"/>
  </joint>
  <joint name="r_shoulder_roll" type="continuous">
    <origin rpy="0 0 0" xyz="0.01575 -0.025 0.0"/>
    <parent link="r_shoulder"/>
    <child link="r_upperarm"/>
    <axis xyz="1.0 0.0 0.0"/>
    <limit effort="1000" lower="-1.5707963267948966" upper="1.5707963267948966" velocity="100.0"/>
  </joint>
  <joint name="r_elbow_yaw" type="continuous">
    <origin rpy="0 0 0" xyz="-0.016 0.0 -0.07175"/>
    <parent link="r_upperarm"/>
    <child link="r_elbow"/>
    <axis xyz="-0.0 0.0 1.0"/>
    <limit effort="1000" lower="-1.5707963267948966" upper="1.5707963267948966" velocity="100.0"/>
  </joint>
  <joint name="r_elbow_pitch" type="continuous">
    <origin rpy="0 0 0" xyz="0.0115 -0.01625 -0.0145"/>
    <parent link="r_elbow"/>
    <child link="r_lowerarm"/>
    <axis xyz="-0.0 1.0 -0.0"/>
    <limit effort="1000" lower="-1.5707963267948966" upper="1.5707963267948966" velocity="100.0"/>
  </joint>
  <joint name="r_hipjoint_yaw" type="continuous">
    <origin rpy="0 0 0" xyz="0.010956 -0.012158 0.25575"/>
    <parent link="base_link"/>
    <child link="r_hipjointupper"/>
    <axis xyz="-0.0 0.0 -1.0"/>
    <limit effort="1000" lower="-1.5707963267948966" upper="1.5707963267948966" velocity="100.0"/>
  </joint>
  <joint name="r_hipjoint_roll" type="continuous">
    <origin rpy="0 0 0" xyz="0.0167 0.004 -0.02275"/>
    <parent link="r_hipjointupper"/>
    <child link="r_hipjointlower"/>
    <axis xyz="1.0 0.0 0.0"/>
    <limit effort="1000" lower="-1.5707963267948966" upper="1.5707963267948966" velocity="100.0"/>
  </joint>
  <joint name="r_hipjoint_pitch" type="continuous">
    <origin rpy="0 0 0" xyz="-0.01625 -0.0275 -0.0395"/>
    <parent link="r_hipjointlower"/>
    <child link="r_upperreg"/>
    <axis xyz="0.0 -1.0 0.0"/>
    <limit effort="1000" lower="-1.5707963267948966" upper="1.5707963267948966" velocity="100.0"/>
  </joint>
  <joint name="r_knee_pitch" type="continuous">
    <origin rpy="0 0 0" xyz="0.0 0.0 -0.065"/>
    <parent link="r_upperreg"/>
    <child link="r_lowerreg"/>
    <axis xyz="-0.0 1.0 -0.0"/>
    <limit effort="1000" lower="-1.5707963267948966" upper="1.5707963267948966" velocity="100.0"/>
  </joint>
  <joint name="r_ankle_pitch" type="continuous">
    <origin rpy="0 0 0" xyz="-0.003363 -0.0005 -0.064913"/>
    <parent link="r_lowerreg"/>
    <child link="r_ankle"/>
    <axis xyz="0.0 1.0 -0.0"/>
    <limit effort="1000" lower="-1.5707963267948966" upper="1.5707963267948966" velocity="100.0"/>
  </joint>
  <joint name="r_ankle_roll" type="continuous">
    <origin rpy="0 0 0" xyz="0.01975 0.028 -0.0395"/>
    <parent link="r_ankle"/>
    <child link="r_foot"/>
    <axis xyz="1.0 0.0 0.0"/>
    <limit effort="1000" lower="-1.5707963267948966" upper="1.5707963267948966" velocity="100.0"/>
  </joint>
</robot>
